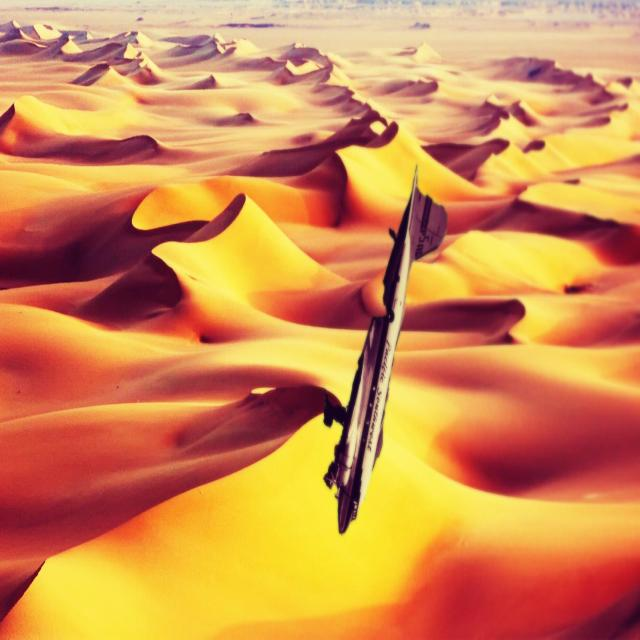airplane: (322, 161, 450, 541)
